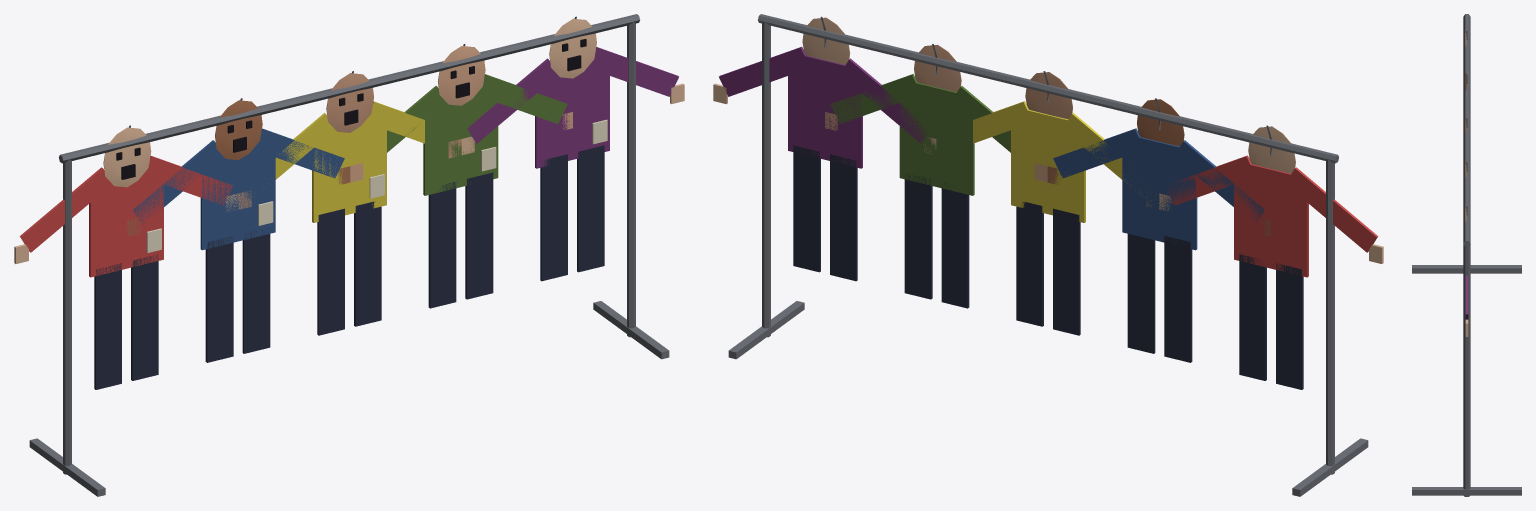
File: pressed_rack.glb
3 views of the same model, side by side, from view 1: azimuth 30°, elevation 25°; view 2: azimuth 150°, elevation 25°; view 3: azimuth 270°, elevation 25° (orthographic). The views are drawn at different scales.
Visible parts, largest first — view 1: pressed_rack; view 2: pressed_rack; view 3: pressed_rack.
Boxes of the visible parts, <box> form: pressed_rack: <box>14,14,684,496</box>; pressed_rack: <box>713,14,1383,496</box>; pressed_rack: <box>1412,14,1521,496</box>.
Size of the model in its own units: 5.1 by 2.42 by 0.9.
